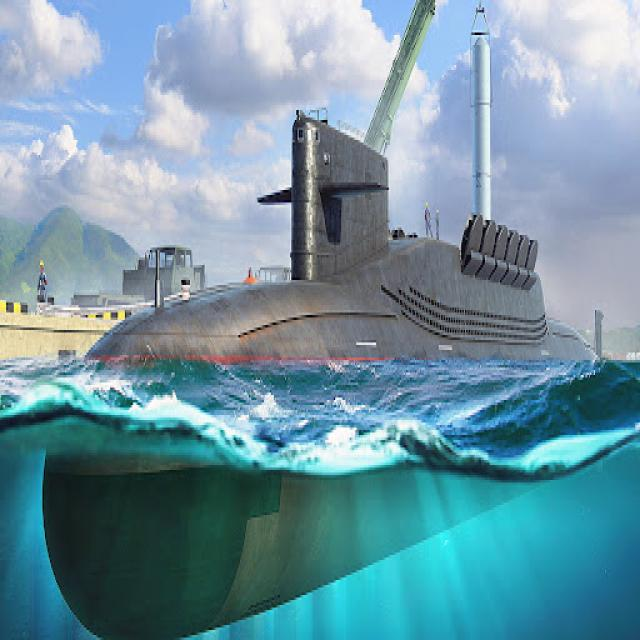Submarine-Jin-Class-CHI: (39, 0, 640, 640)
